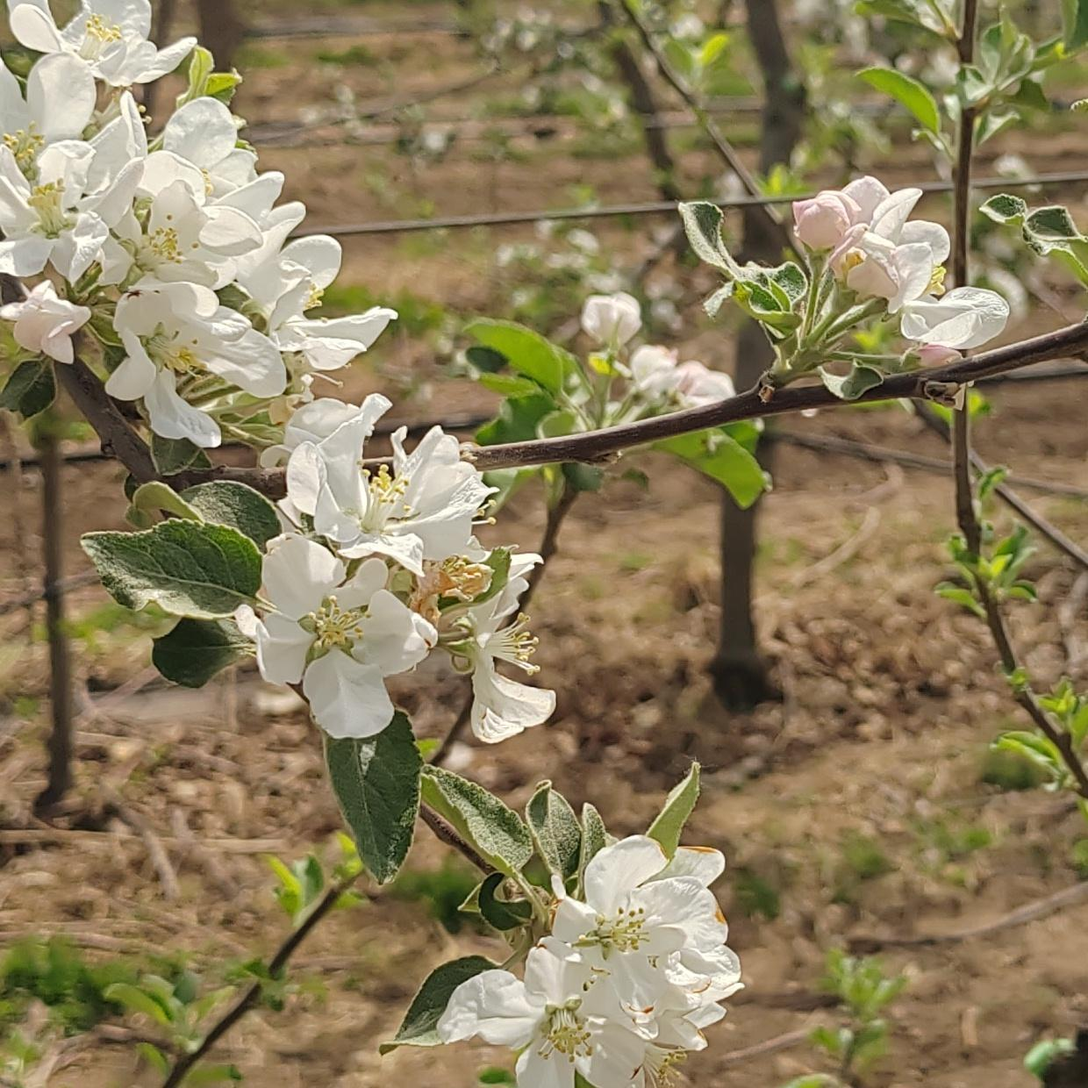apple_flower: (0, 0, 387, 446), (240, 393, 554, 741), (438, 834, 741, 1088), (792, 172, 1013, 361), (530, 290, 733, 428)
